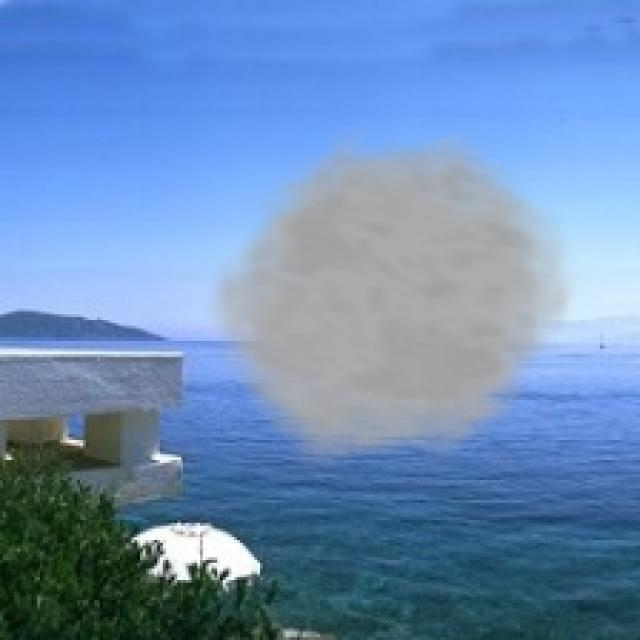Smoke: (197, 132, 592, 477)
